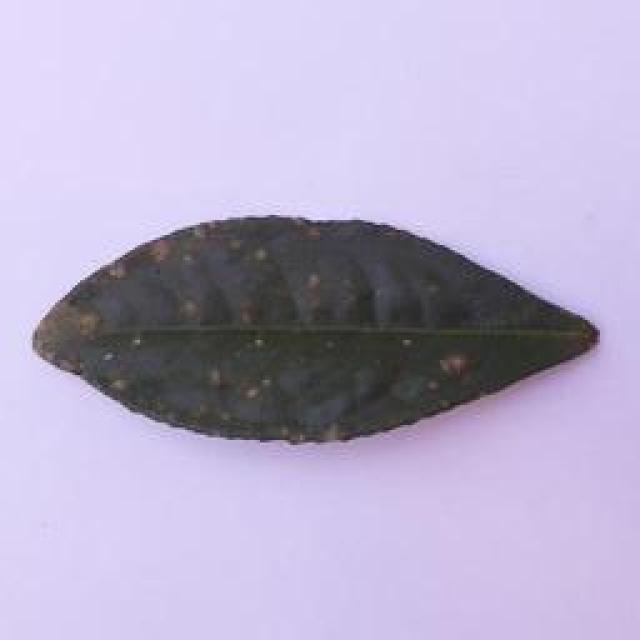Algal Leaf Spot: (26, 202, 608, 452)
